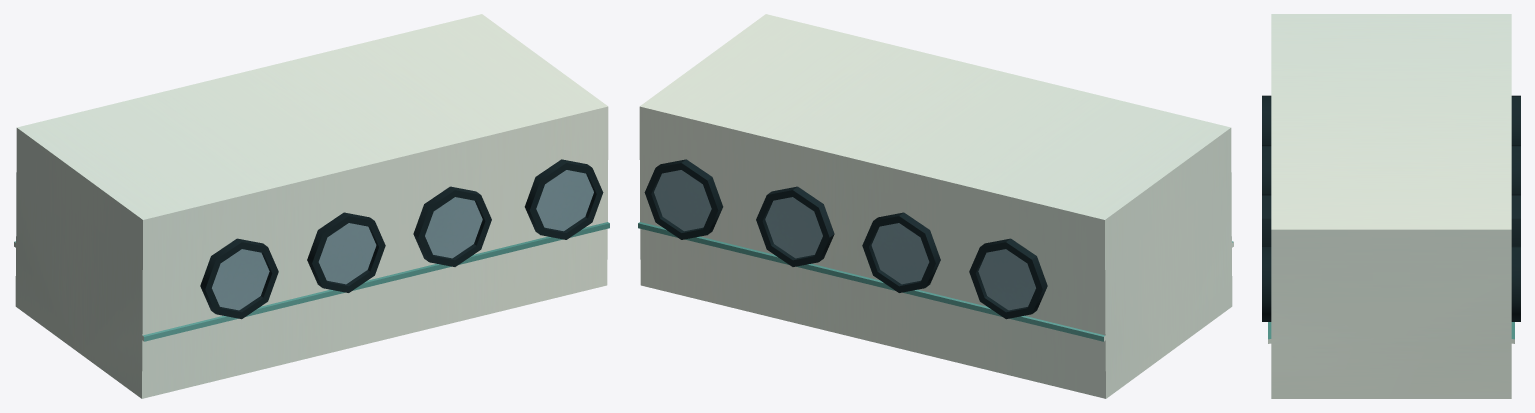
Rendered from Plane_Body.FBX.
3 views of the same model, side by side, from view 1: azimuth 30°, elevation 25°; view 2: azimuth 150°, elevation 25°; view 3: azimuth 270°, elevation 25° (orthographic). The views are drawn at different scales.
Parts seen in each view (by area): view 1: SM_Plane_Body; view 2: SM_Plane_Body; view 3: SM_Plane_Body.
Boxes of the visible parts, box(x1,y1,x2,y2) form: SM_Plane_Body: box(14, 14, 609, 398); SM_Plane_Body: box(638, 14, 1233, 398); SM_Plane_Body: box(1262, 14, 1520, 398).
Bounding box in the file's own units: 136 × 49.7 × 68.72.
